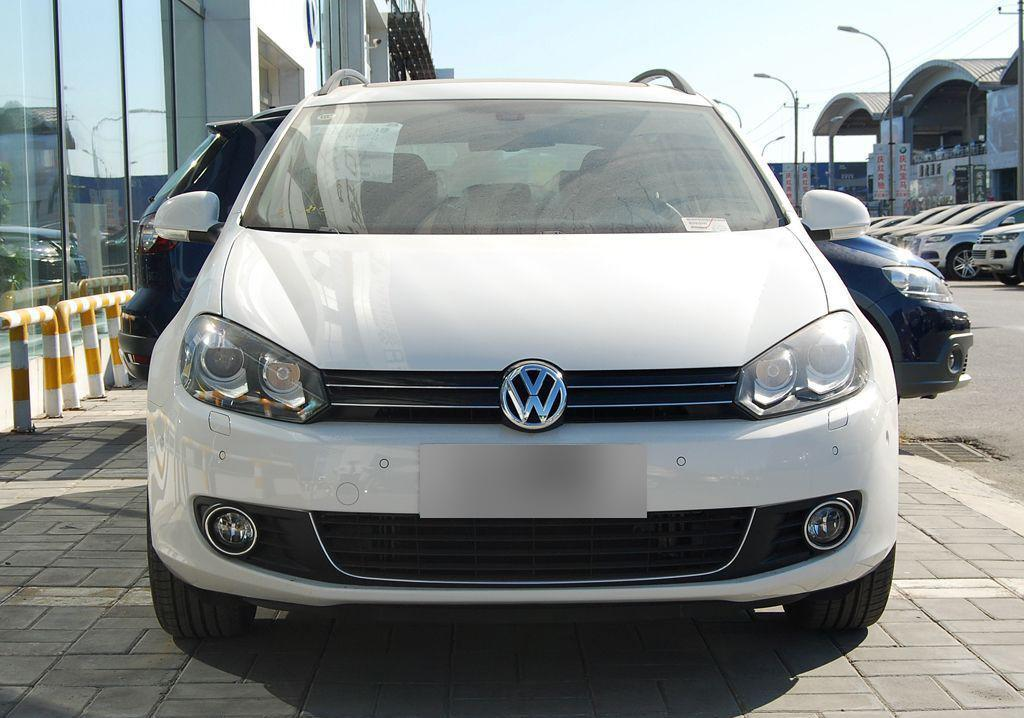Wagon: (144, 66, 897, 626)
